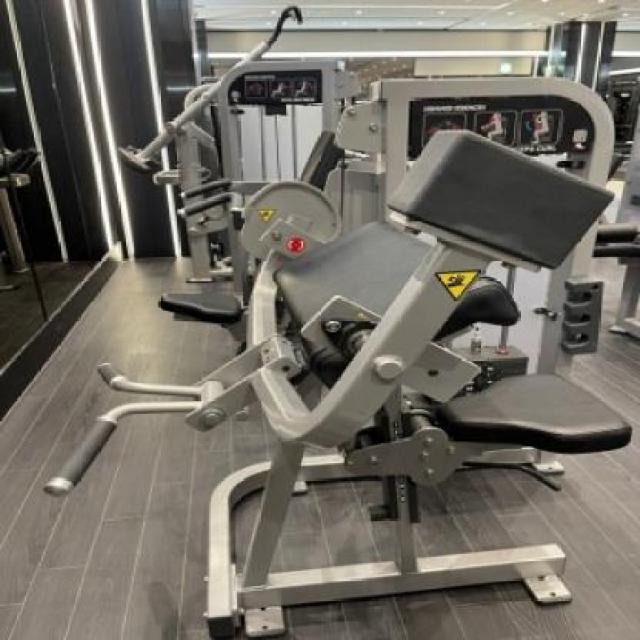arm curl machine: (41, 221, 632, 640)
